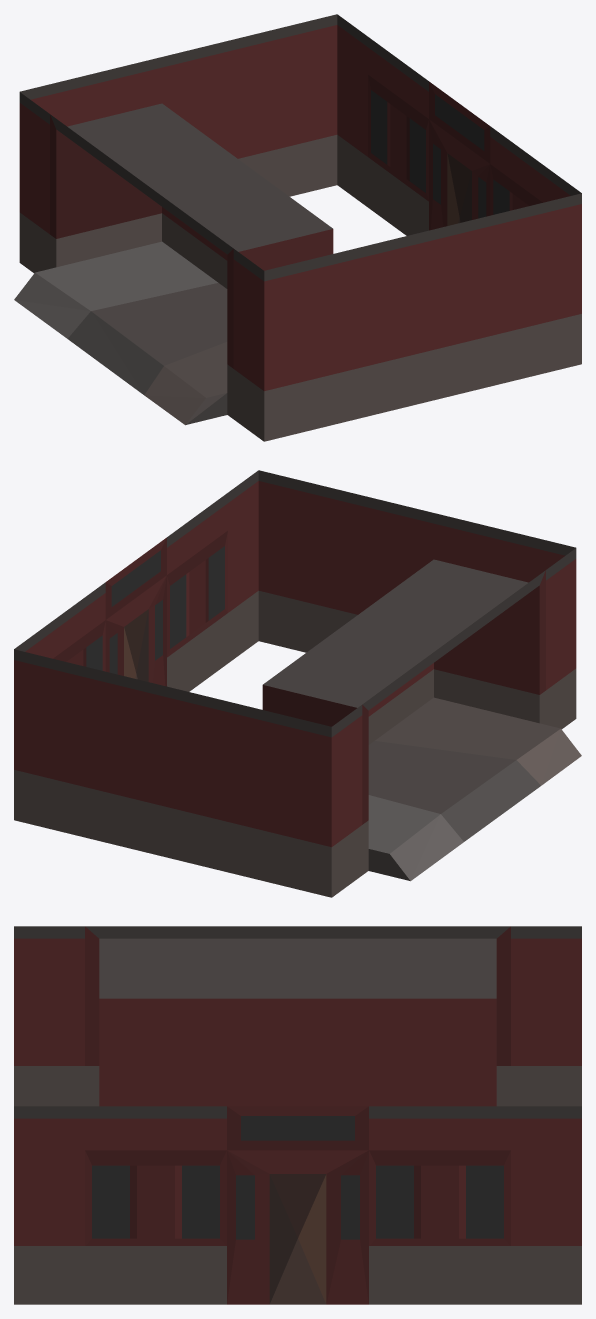
The model's file is BuildingA-Sm_CLOD2.fbx.
3 views of the same model, one above another, from view 1: azimuth 30°, elevation 25°; view 2: azimuth 150°, elevation 25°; view 3: azimuth 270°, elevation 25° (orthographic). The views are drawn at different scales.
Parts seen in each view (by area): view 1: BuildingA-Sm_CLOD2; view 2: BuildingA-Sm_CLOD2; view 3: BuildingA-Sm_CLOD2.
Boxes of the visible parts, left/top/right/bottom form: BuildingA-Sm_CLOD2: left=14, top=14, right=581, bottom=441; BuildingA-Sm_CLOD2: left=14, top=470, right=581, bottom=897; BuildingA-Sm_CLOD2: left=14, top=926, right=581, bottom=1304.
Size of the model in its own units: 850 by 386 by 1000.
